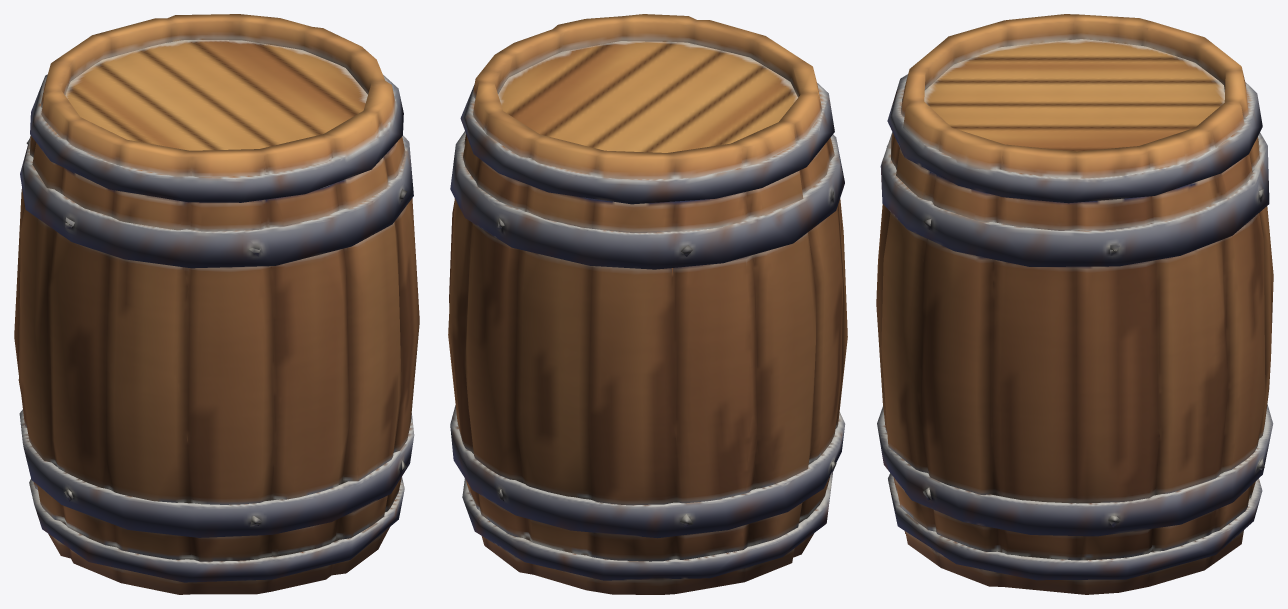
File: barrel.glb
The picture shows the model from 3 angles, left to right: view 1: azimuth 30°, elevation 25°; view 2: azimuth 150°, elevation 25°; view 3: azimuth 270°, elevation 25°; orthographic projection.
Parts seen in each view (by area): view 1: barrel; view 2: barrel; view 3: barrel.
Boxes of the visible parts, left/top/right/bottom form: barrel: left=14, top=14, right=419, bottom=594; barrel: left=448, top=14, right=847, bottom=594; barrel: left=876, top=14, right=1273, bottom=594.
Size of the model in its own units: 0.7925 by 0.9503 by 0.7853.
1 material, 1 textured.
